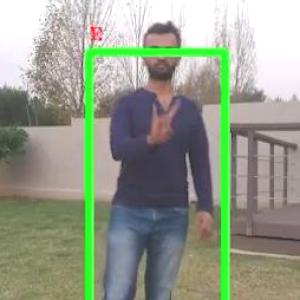takeoff-hand: (144, 92, 178, 143)
